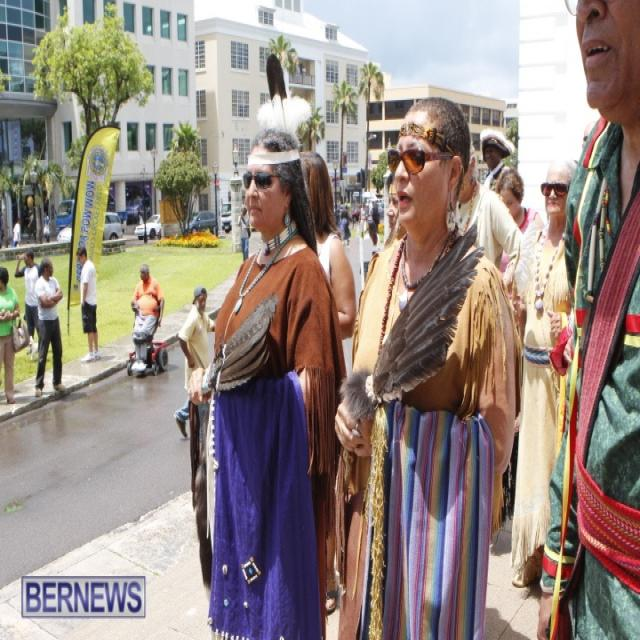body: (331, 93, 518, 640), (182, 121, 351, 639), (532, 0, 638, 640), (293, 147, 359, 617), (509, 159, 575, 589), (452, 137, 524, 303), (330, 172, 399, 283), (492, 166, 546, 302), (172, 287, 216, 441), (33, 256, 67, 399), (130, 263, 165, 372), (73, 241, 102, 367), (13, 249, 44, 355), (0, 263, 21, 405), (478, 127, 516, 192), (12, 209, 50, 248), (237, 204, 250, 263), (579, 122, 598, 154), (135, 210, 144, 227)
